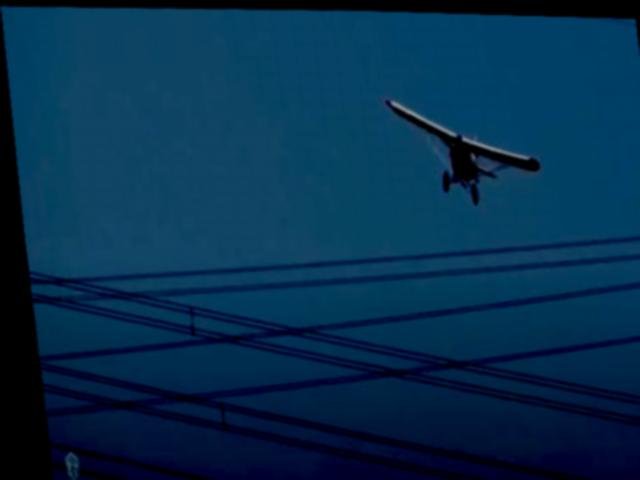uav: (378, 86, 548, 208)
